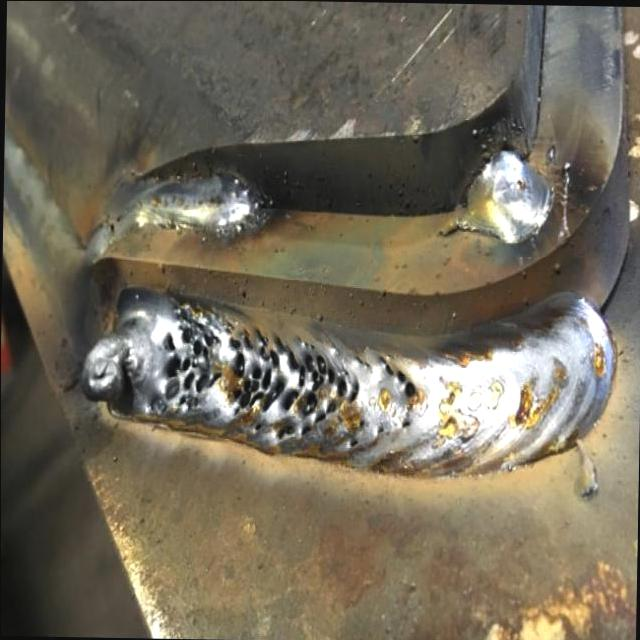defect: (224, 321, 356, 443), (155, 303, 224, 411), (373, 344, 424, 404), (348, 348, 368, 371), (394, 414, 413, 434), (347, 435, 361, 451), (375, 423, 387, 435), (356, 413, 365, 428)
